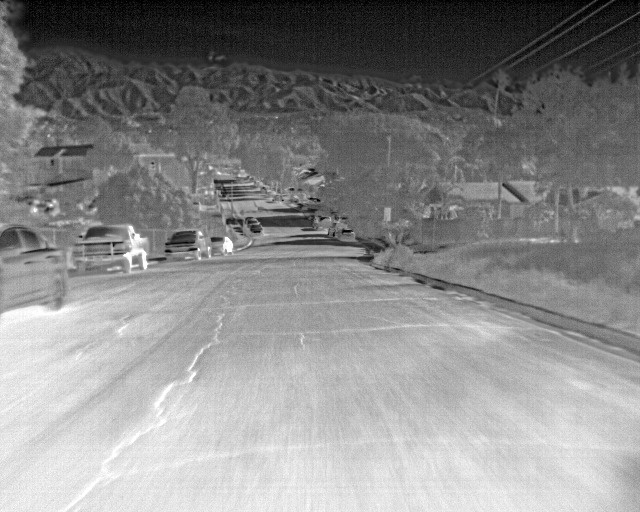vehicle: (1, 222, 69, 314), (73, 226, 150, 272), (164, 229, 210, 261), (211, 234, 238, 255)
